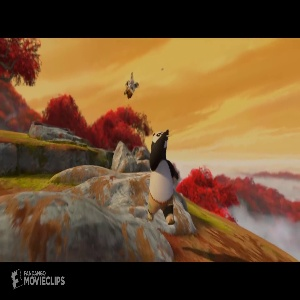po: (148, 128, 178, 224)
shifu: (123, 70, 141, 100)
